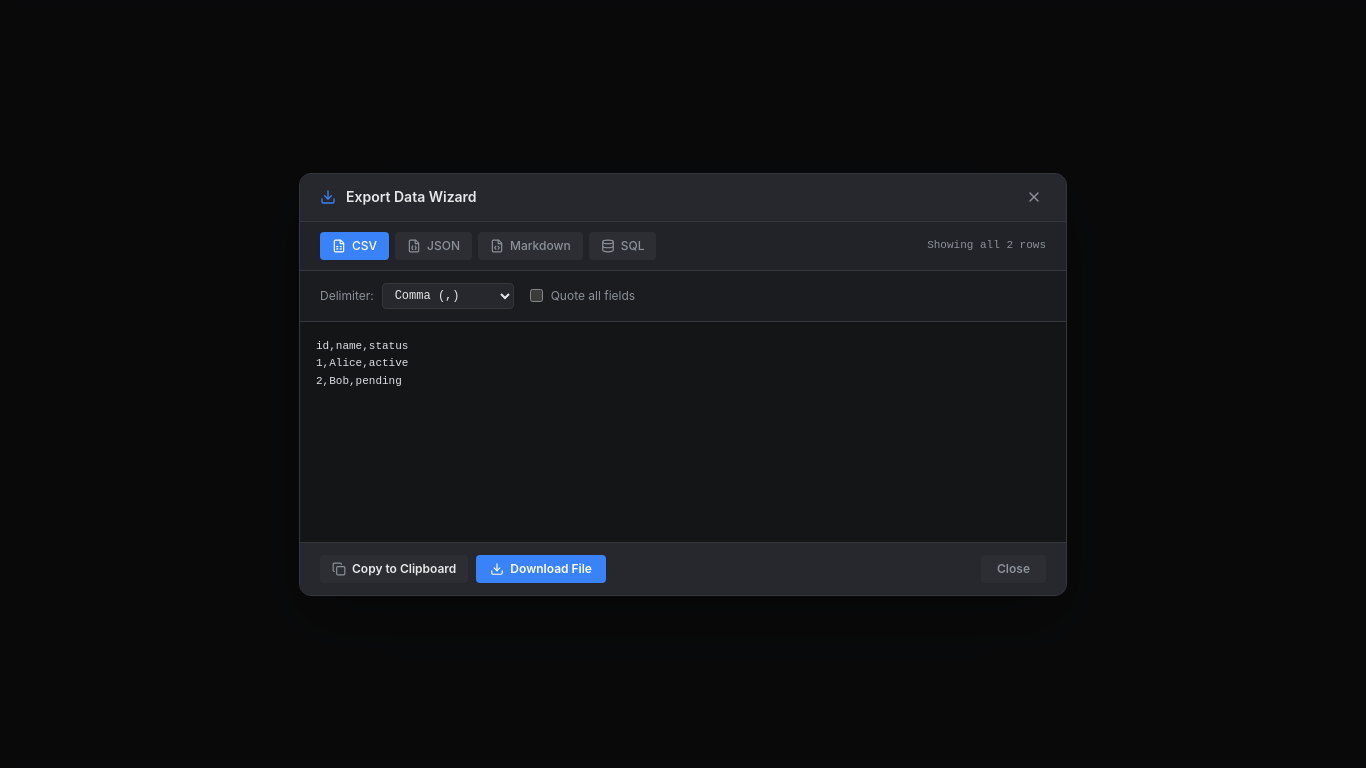
Test case: ExportModal component › switches between format tabs and updates preview
The width and height of the screenshot is (1366, 768).
# Switch to JSON
Click the tab "JSON" at {"x": 434, "y": 246}, box [395,232,472,260]
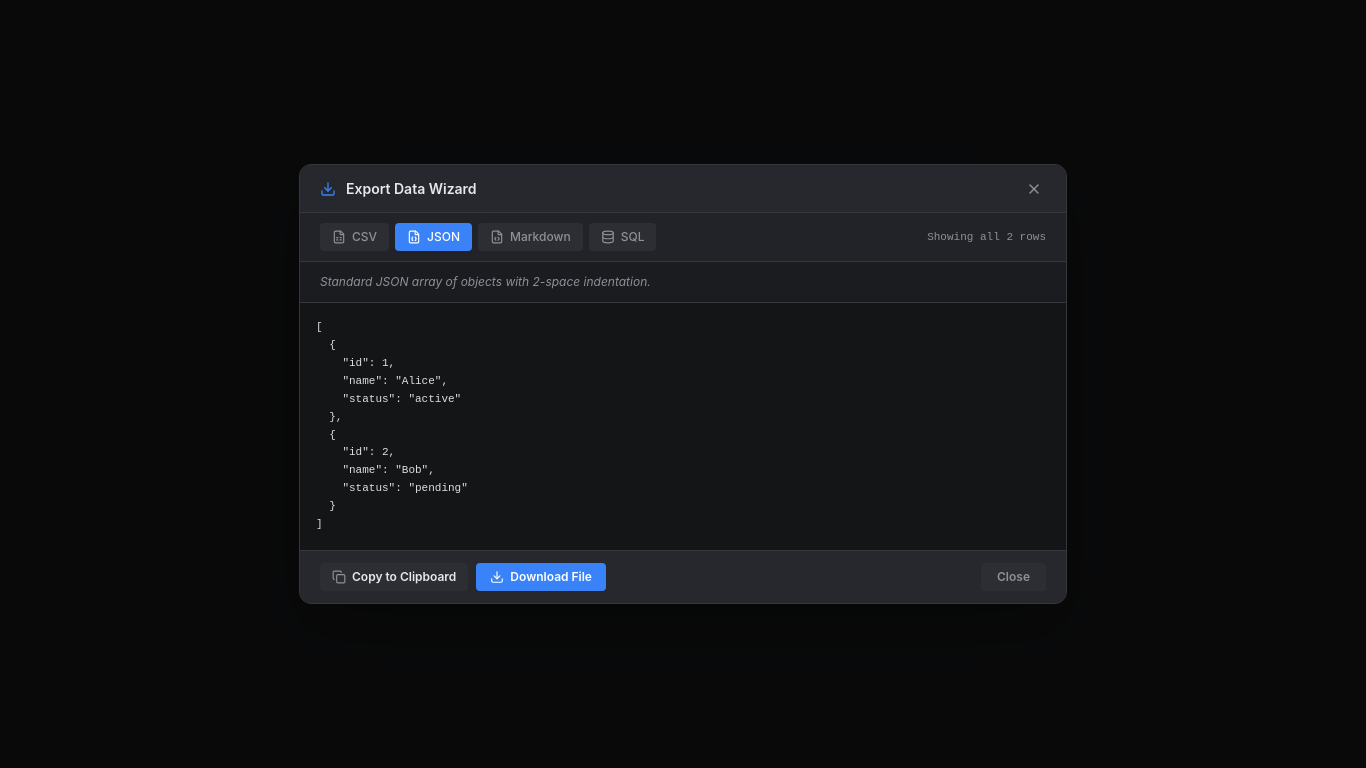
Now the text with test id "export-preview" shows "\"name\": \"Alice\"", box [316,321,468,530]
# Switch to Markdown
Click the tab "Markdown" at {"x": 530, "y": 237}, box [478,223,583,251]
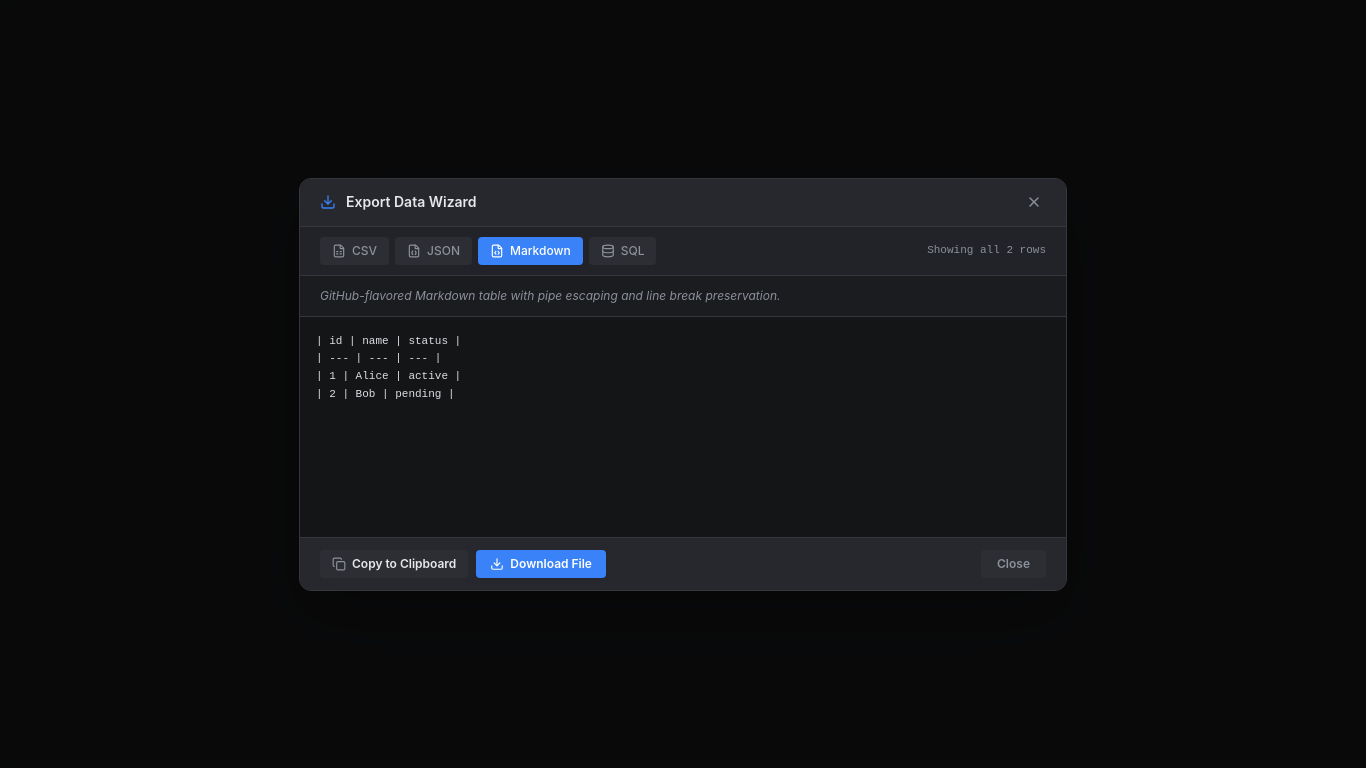
Expected: the text with test id "export-preview" shows "| id | name | status |", [316,334,461,400]
Expected: the text with test id "export-preview" shows "| --- | --- | --- |", [316,334,461,400]
# Switch to SQL
Click the tab "SQL" at {"x": 623, "y": 250}, box [589,236,656,264]
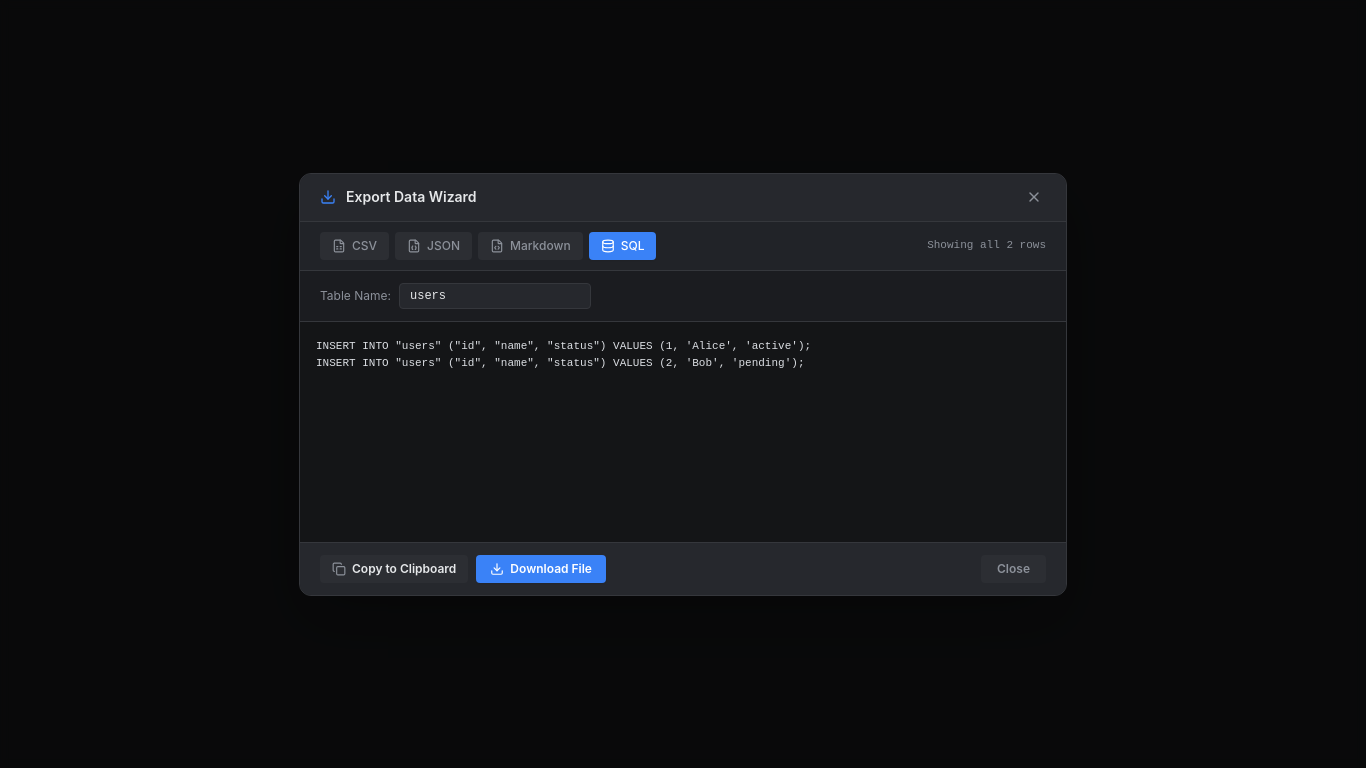
Now the text with test id "export-preview" shows "INSERT INTO \"users\" (\"id\", \"name\", \"status\") VALUES (1, 'Alice', 'active');", box [316,340,811,369]
